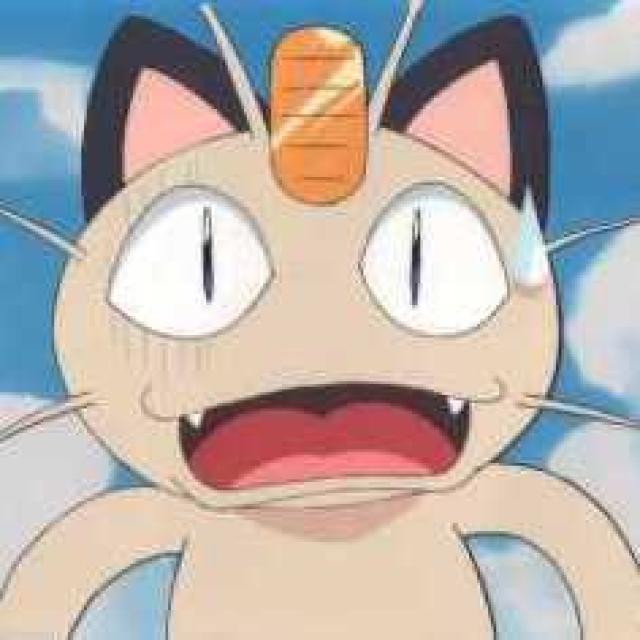Meowth: (78, 20, 560, 640)
